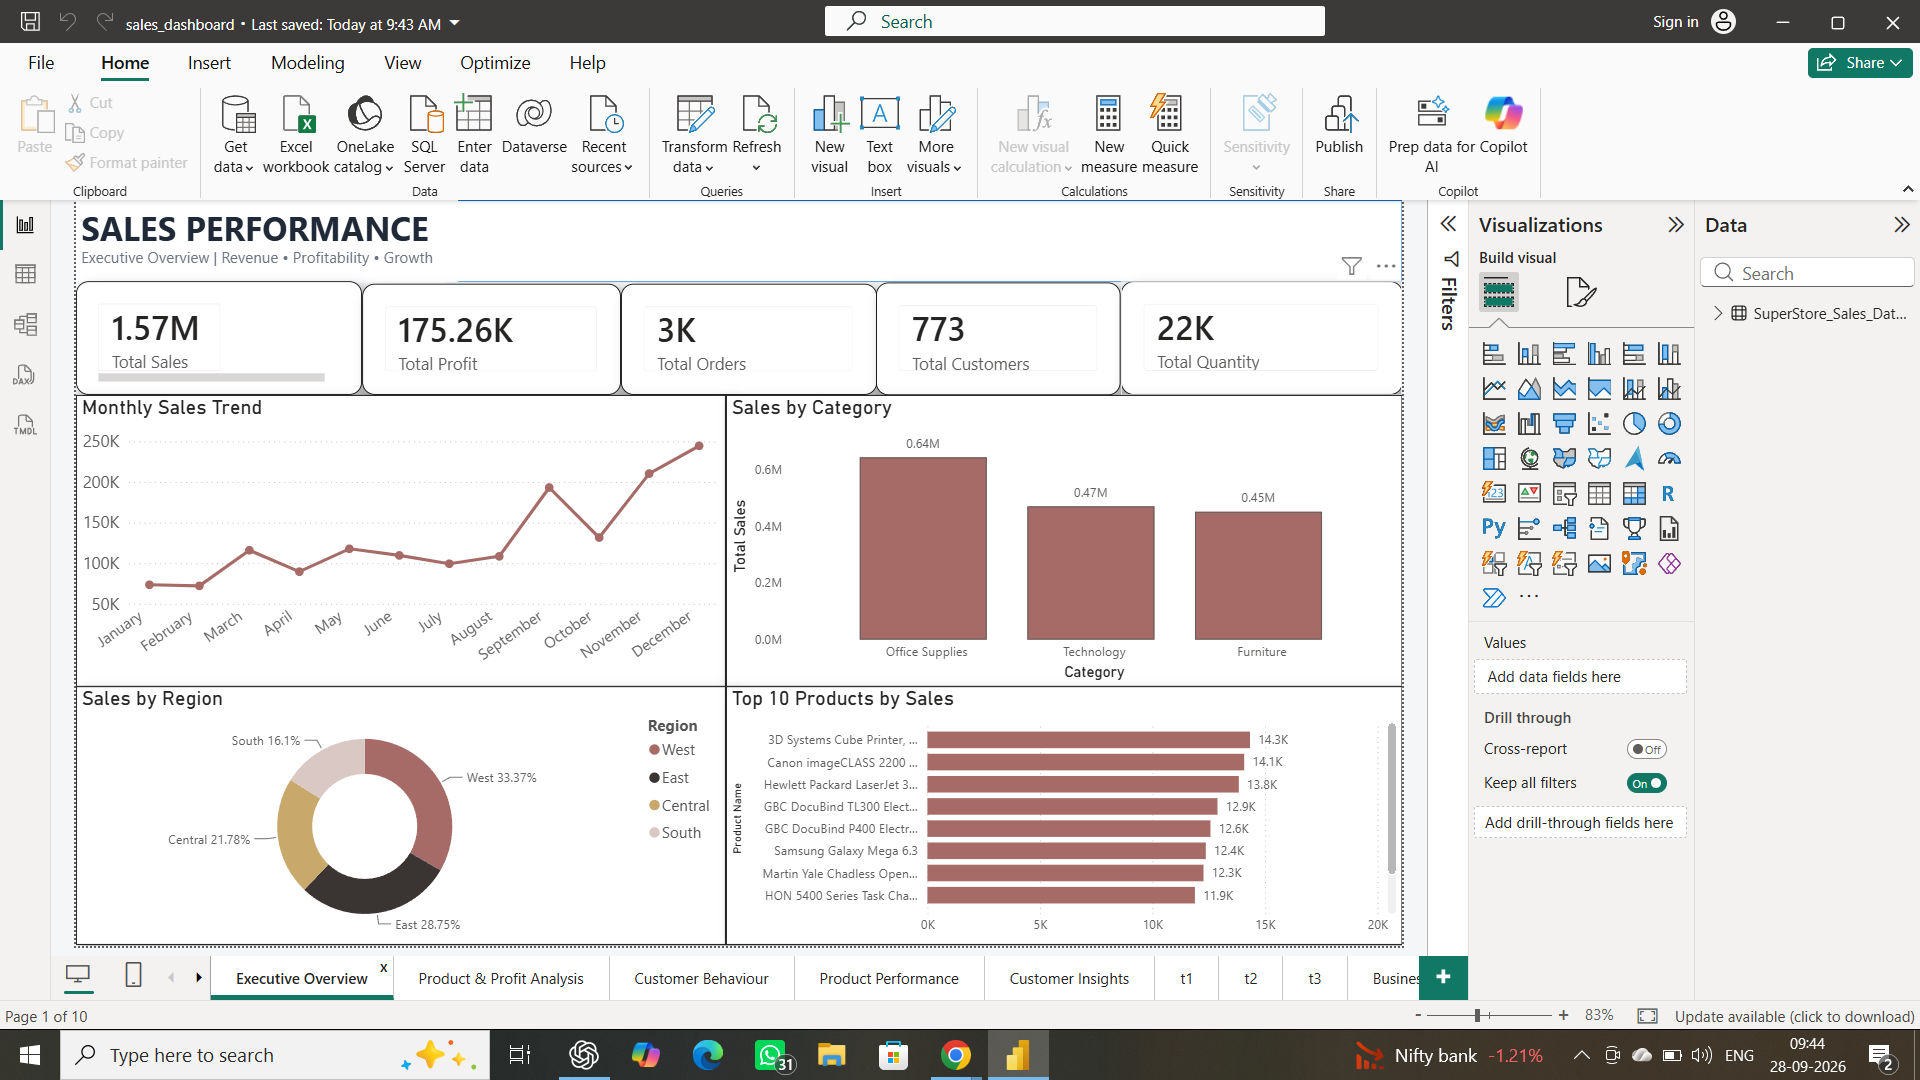

This screenshot's page, from the dashboard's own definition file:
{"tool":"powerbi","page":{"name":"Executive Overview","canvas":[1280,720],"ordinal":0},"visuals":[{"type":"shape","box":[0,0,1280.3,79.6],"z":0},{"type":"textbox","box":[0,0,369.1,79.6],"z":1000},{"type":"textbox","box":[0,39.8,356.8,39.8],"z":2000},{"type":"cardVisual","fields":{"Data":["SuperStore_Sales_Dataset.Total Sales"]},"box":[0,78.2,275.8,109.8],"z":3000},{"type":"cardVisual","fields":{"Data":["SuperStore_Sales_Dataset.Total Profit"]},"box":[275.8,81,249.7,107],"z":4000},{"type":"cardVisual","fields":{"Data":["SuperStore_Sales_Dataset.Total Orders"]},"box":[525.6,81,247,107],"z":5000},{"type":"cardVisual","fields":{"Data":["SuperStore_Sales_Dataset.Total Customers"]},"box":[772.6,79.6,236,108.4],"z":6000},{"type":"cardVisual","fields":{"Data":["SuperStore_Sales_Dataset.Total Quantity"]},"box":[1008.6,78.2,271.7,109.8],"z":7000},{"type":"lineChart","title":"Monthly Sales Trend","fields":{"Category":["SuperStore_Sales_Dataset.Order Date.Variation.Date Hierarchy.Month"],"Y":["SuperStore_Sales_Dataset.Total Sales"]},"box":[0,188,627.1,281.3],"z":8000},{"type":"clusteredColumnChart","title":" Sales by Category","fields":{"Category":["SuperStore_Sales_Dataset.Category"],"Y":["SuperStore_Sales_Dataset.Total Sales"]},"box":[627.1,188,653.2,281.3],"z":9000},{"type":"donutChart","title":"Sales by Region","fields":{"Category":["SuperStore_Sales_Dataset.Region"],"Y":["SuperStore_Sales_Dataset.Total Sales"]},"box":[0,469.3,627.1,249.7],"z":10000},{"type":"clusteredBarChart","title":"Top 10 Products by Sales","fields":{"Category":["SuperStore_Sales_Dataset.Product Name"],"Y":["SuperStore_Sales_Dataset.Total Sales"]},"box":[627.1,469.3,653.2,249.7],"z":11000}]}

Visuals, with their boxes on the page's 1280x720 design canvas (x1, y1, x2, y2). These are canvas units, not pixel positions in the 1920x1080 screenshot, which may show the page scaled, cropped or inside an application window:
shape: bbox=(0, 0, 1280, 80)
textbox: bbox=(0, 0, 369, 80)
textbox: bbox=(0, 40, 357, 80)
cardVisual - SuperStore_Sales_Dataset.Total Sales: bbox=(0, 78, 276, 188)
cardVisual - SuperStore_Sales_Dataset.Total Profit: bbox=(276, 81, 526, 188)
cardVisual - SuperStore_Sales_Dataset.Total Orders: bbox=(526, 81, 773, 188)
cardVisual - SuperStore_Sales_Dataset.Total Customers: bbox=(773, 80, 1009, 188)
cardVisual - SuperStore_Sales_Dataset.Total Quantity: bbox=(1009, 78, 1280, 188)
"Monthly Sales Trend" lineChart: bbox=(0, 188, 627, 469)
" Sales by Category" clusteredColumnChart: bbox=(627, 188, 1280, 469)
"Sales by Region" donutChart: bbox=(0, 469, 627, 719)
"Top 10 Products by Sales" clusteredBarChart: bbox=(627, 469, 1280, 719)
